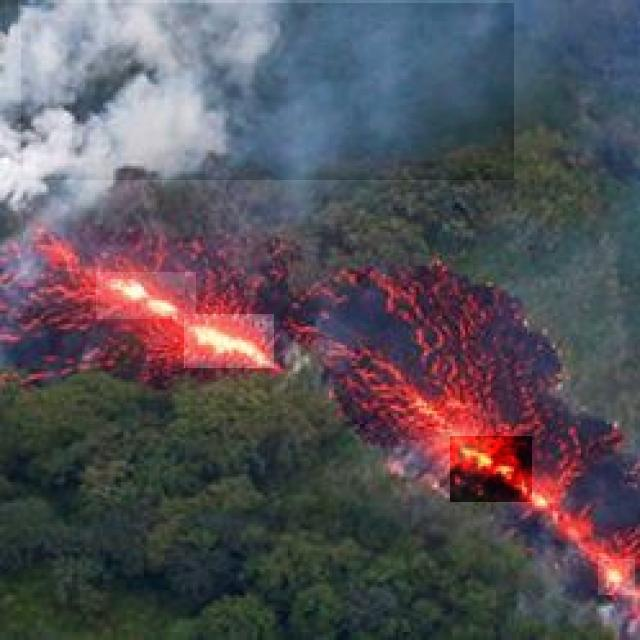Fire: (450, 436, 532, 502), (184, 314, 274, 368), (96, 272, 196, 319), (598, 559, 635, 595)
Smoke: (21, 3, 514, 180)
